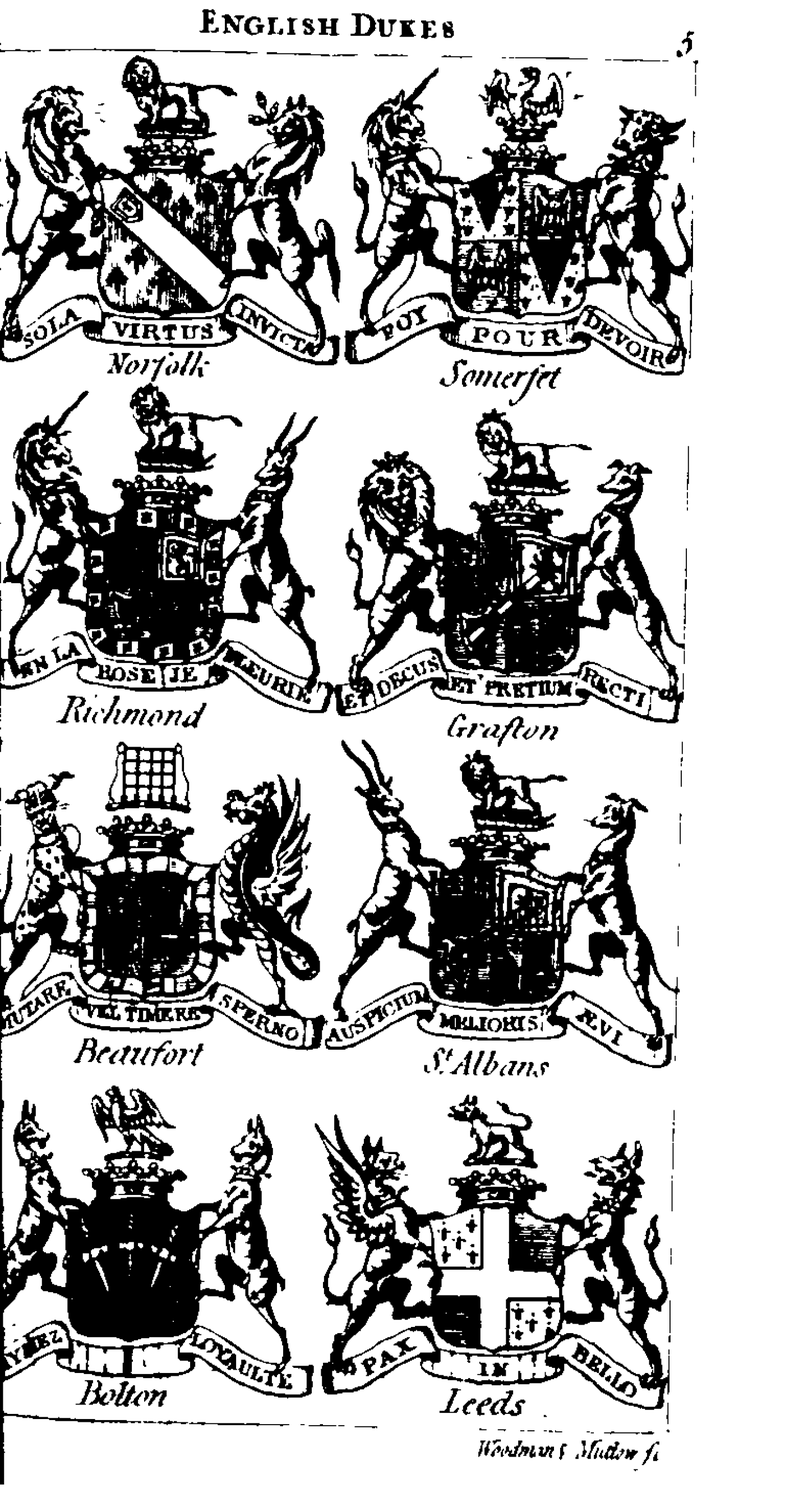coat_of_arms: (311, 1076, 669, 1432), (339, 53, 690, 412), (1, 404, 341, 752), (2, 54, 340, 402), (344, 408, 684, 752), (331, 744, 676, 1083), (1, 738, 327, 1083), (1, 1081, 322, 1423)
